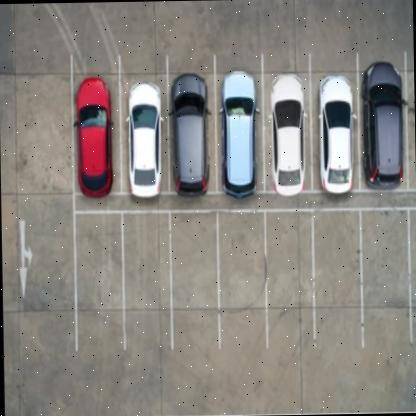Car: (352, 46, 414, 190), (70, 71, 122, 206), (216, 58, 262, 203), (268, 58, 310, 208), (311, 72, 358, 204), (169, 66, 214, 202), (123, 74, 169, 204)
Empty: (356, 214, 409, 362), (123, 215, 171, 354), (314, 216, 359, 362), (270, 214, 314, 358), (77, 213, 121, 350), (220, 213, 264, 348), (174, 212, 216, 351)
